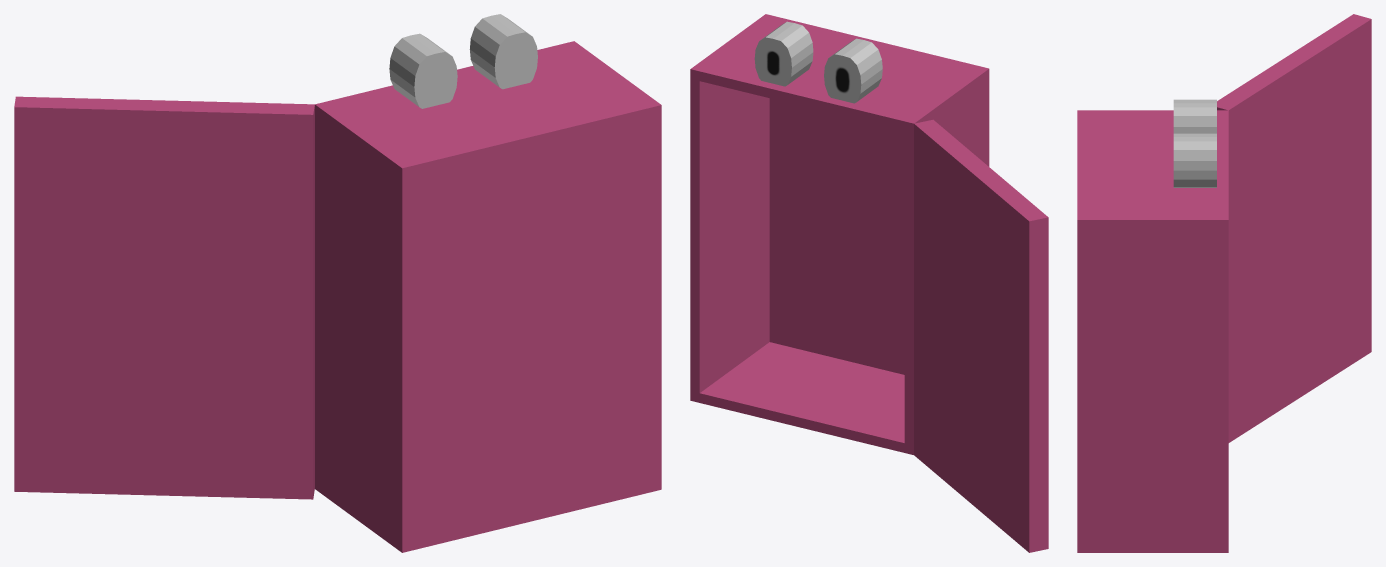
File: boss_.obj
3 renders of one model, left to right at view 1: azimuth 30°, elevation 25°; view 2: azimuth 150°, elevation 25°; view 3: azimuth 270°, elevation 25°, orthographic. The views are drawn at different scales.
Parts seen in each view (by area): view 1: 立方体; view 2: 立方体; view 3: 立方体.
Part boxes in pixels (<box>): 立方体: <box>14,14,661,552</box>; 立方体: <box>690,14,1048,552</box>; 立方体: <box>1077,14,1371,552</box>.
Size of the model in its own units: 4.51 by 3.86 by 2.72.
1 material, 1 textured.
